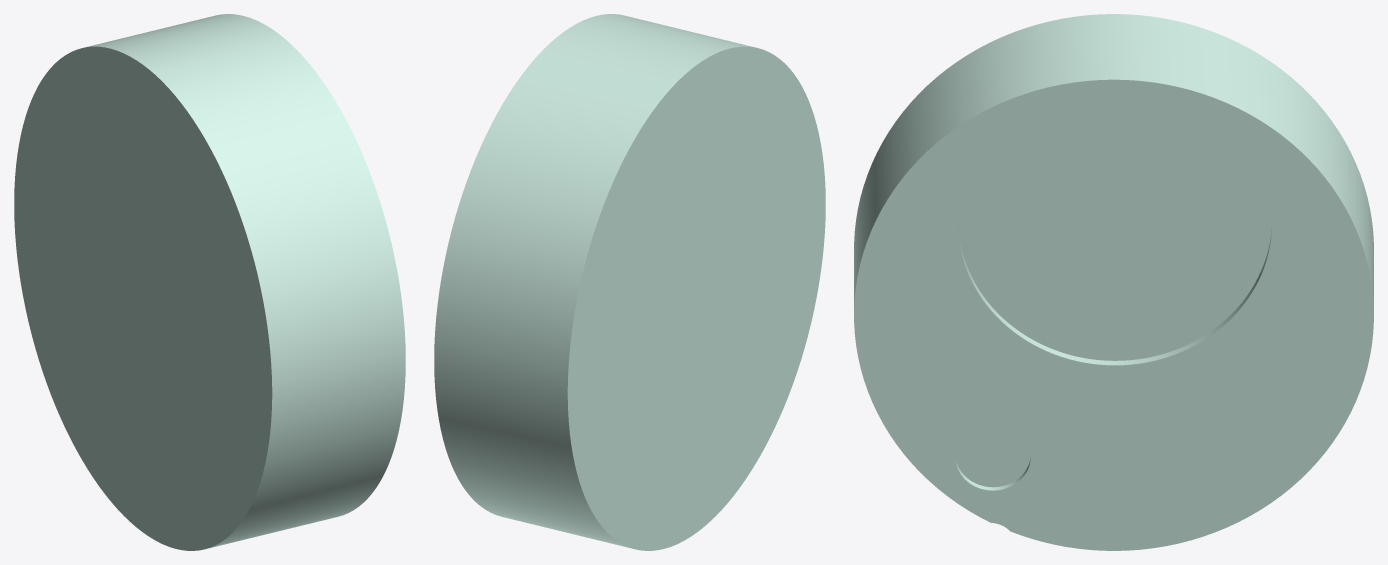
3 renders of one model, left to right at view 1: azimuth 30°, elevation 25°; view 2: azimuth 150°, elevation 25°; view 3: azimuth 270°, elevation 25°, orthographic.
Visible parts, largest first — view 1: Renderer Node; view 2: Renderer Node; view 3: Renderer Node.
Boxes of the visible parts, x1,y1,x2,y2 form: Renderer Node: (14,14,405,550); Renderer Node: (434,14,825,550); Renderer Node: (854,14,1373,550).
Size of the model in its own units: 0.4531 by 1.52 by 1.52.
